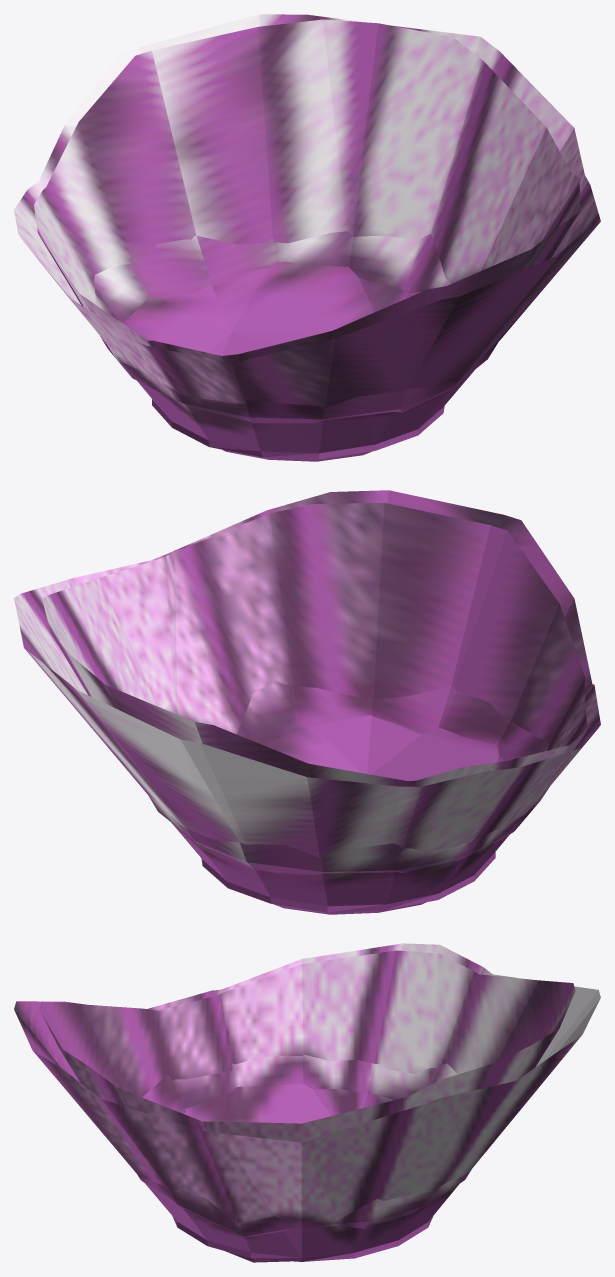
The model's file is BVase1.glb.
The picture shows the model from 3 angles, top to bottom: view 1: azimuth 30°, elevation 25°; view 2: azimuth 150°, elevation 25°; view 3: azimuth 270°, elevation 25°; orthographic projection. The views are drawn at different scales.
Visible parts, largest first — view 1: BVase1; view 2: BVase1; view 3: BVase1.
Part boxes in pixels (bbox=[...]): BVase1: bbox=[14, 14, 600, 461]; BVase1: bbox=[14, 490, 600, 914]; BVase1: bbox=[14, 943, 600, 1262].
Bounding box in the file's own units: 92 × 46.75 × 101.
1 material, 1 textured.
